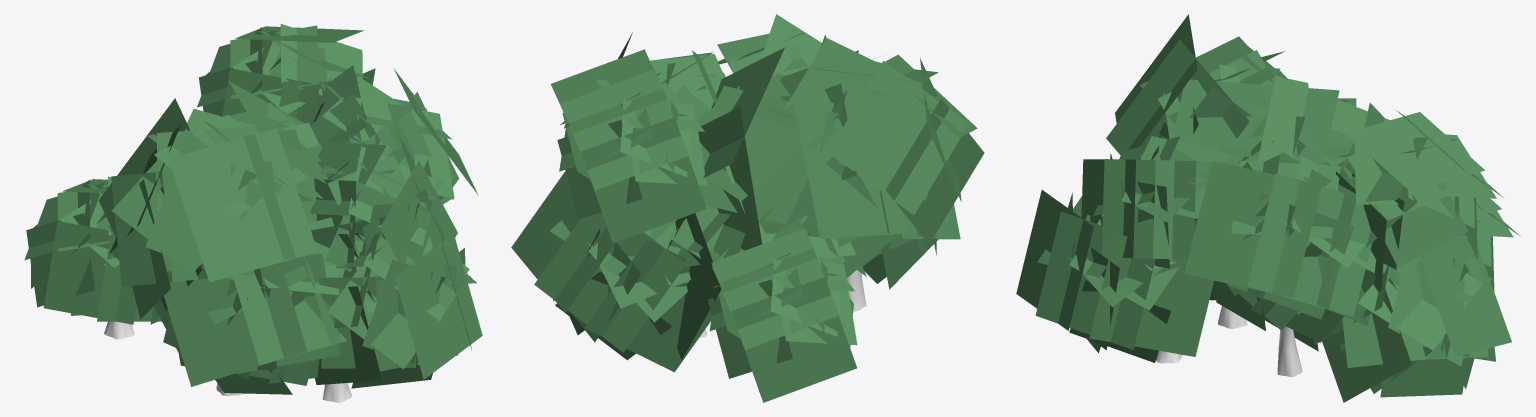
File: Foliage_Bushes_Large_bush_LargeBush_HighNew.glb
3 renders of one model, left to right at view 1: azimuth 30°, elevation 25°; view 2: azimuth 150°, elevation 25°; view 3: azimuth 270°, elevation 25°, orthographic. The views are drawn at different scales.
Visible parts, largest first — view 1: tree; view 2: tree; view 3: tree.
Part boxes in pixels (x1,y1,x2,y2): tree: (24, 24, 482, 402); tree: (511, 14, 984, 402); tree: (1016, 14, 1520, 402).
Size of the model in its own units: 3.87 by 2.89 by 4.55.
